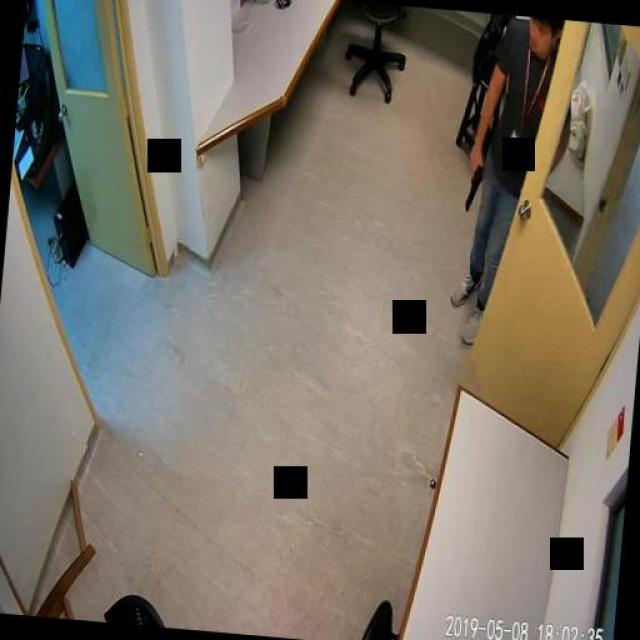gun: (464, 162, 481, 212)
